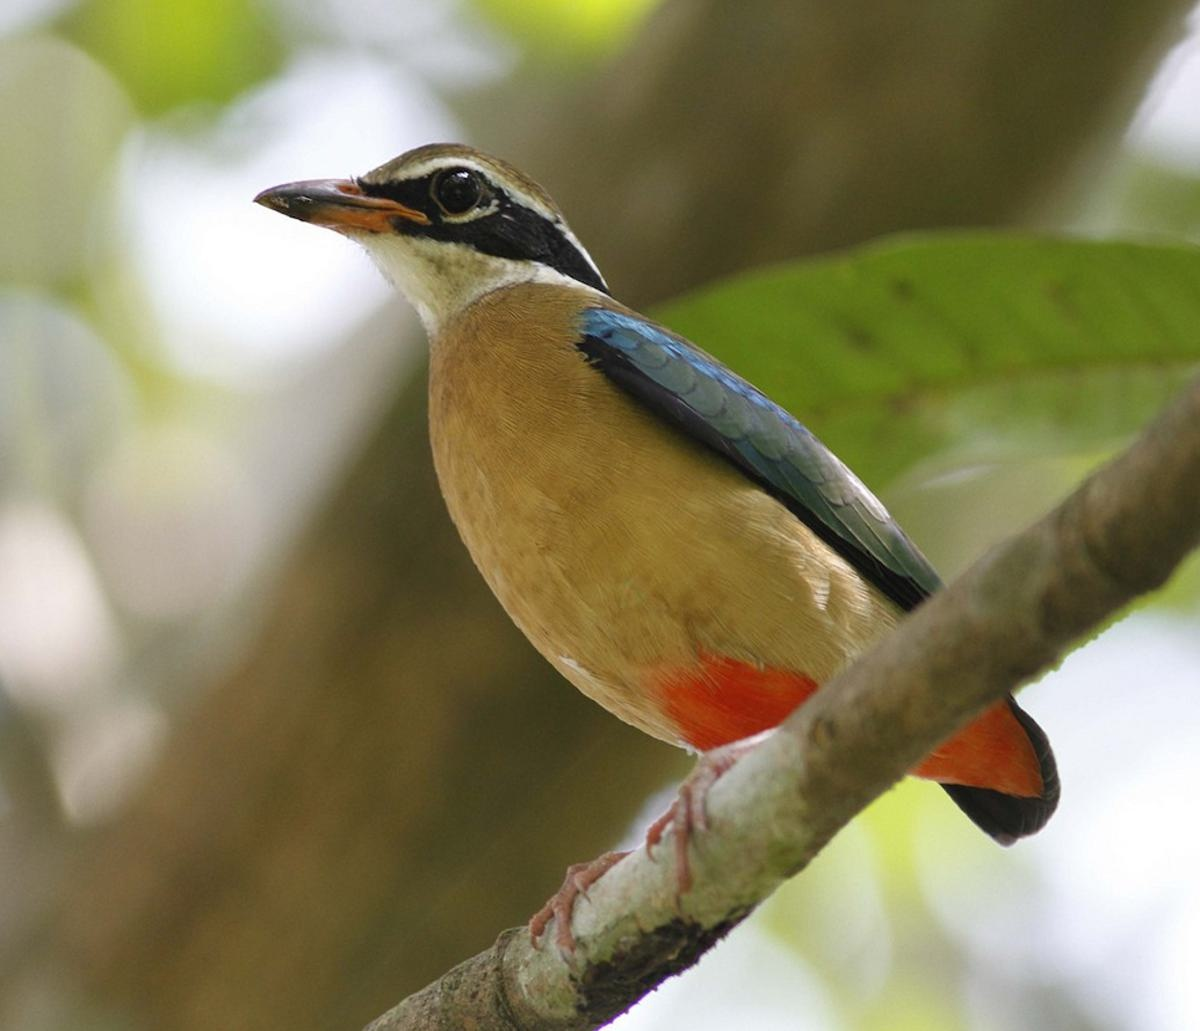pitta: (256, 117, 1081, 857)
